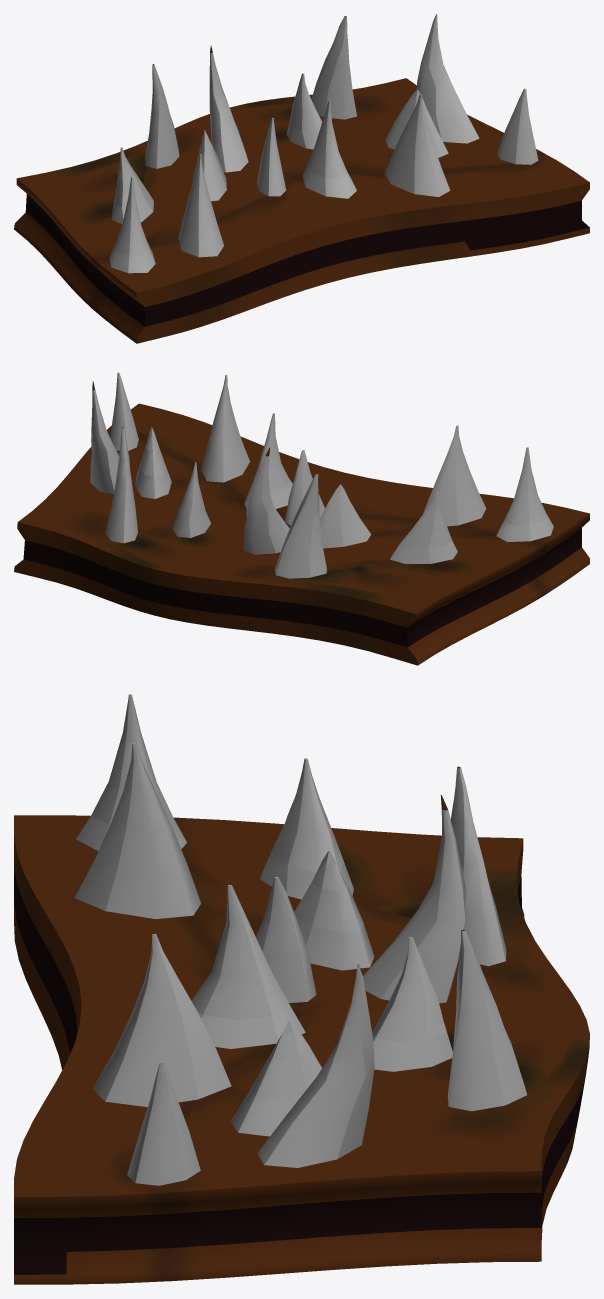
The model's file is trap.fbx.
3 renders of one model, top to bottom at view 1: azimuth 30°, elevation 25°; view 2: azimuth 150°, elevation 25°; view 3: azimuth 270°, elevation 25°, orthographic. The views are drawn at different scales.
Visible parts, largest first — view 1: pPlane3; view 2: pPlane3; view 3: pPlane3.
Part boxes in pixels (bbox=[...]): pPlane3: bbox=[14, 14, 589, 343]; pPlane3: bbox=[14, 372, 589, 665]; pPlane3: bbox=[14, 694, 589, 1284].
Size of the model in its own units: 9.13 by 3.06 by 5.82.
